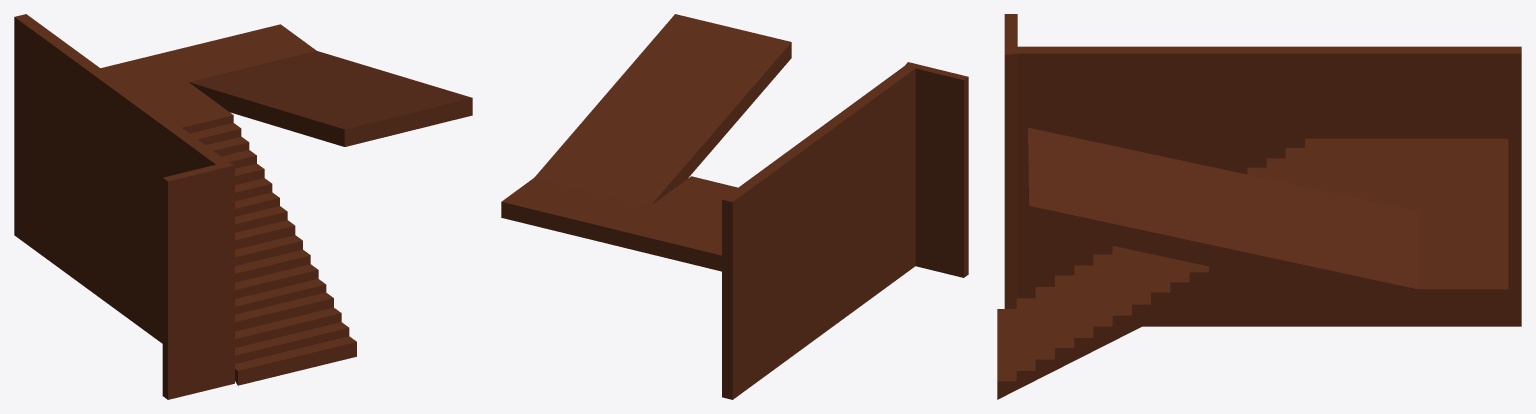
File: escada_level3fbx.fbx
3 renders of one model, left to right at view 1: azimuth 30°, elevation 25°; view 2: azimuth 150°, elevation 25°; view 3: azimuth 270°, elevation 25°, orthographic. The views are drawn at different scales.
Parts seen in each view (by area): view 1: escadas.003; view 2: escadas.003; view 3: escadas.003.
Part boxes in pixels (x1,y1,x2,y2): escadas.003: [14, 14, 472, 399]; escadas.003: [501, 14, 968, 399]; escadas.003: [997, 14, 1521, 399].
Bounding box in the file's own units: 915 × 608 × 1059.
